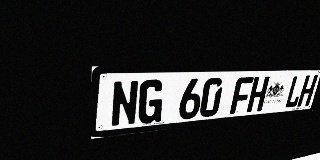0: (199, 78, 224, 118)
6: (178, 78, 204, 120)
F: (230, 77, 254, 114)
G: (137, 79, 165, 124)
H: (246, 76, 270, 112), (297, 75, 318, 107)
L: (284, 75, 306, 108)
N: (111, 80, 139, 127)
